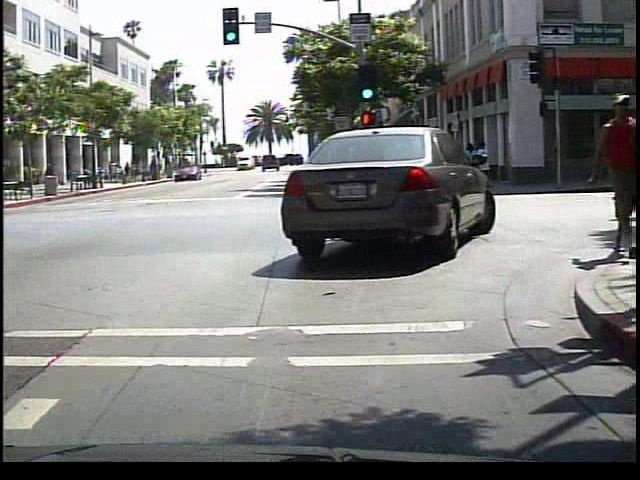person: (574, 80, 640, 261), (38, 159, 56, 190)
